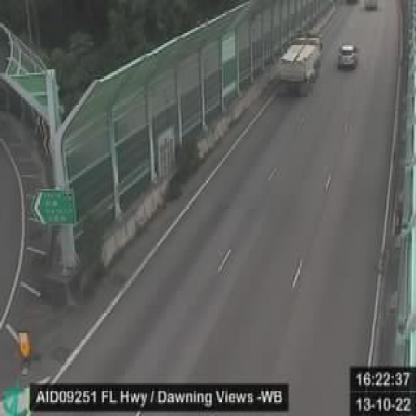Car: (336, 45, 356, 68)
Truck: (278, 32, 323, 96)
